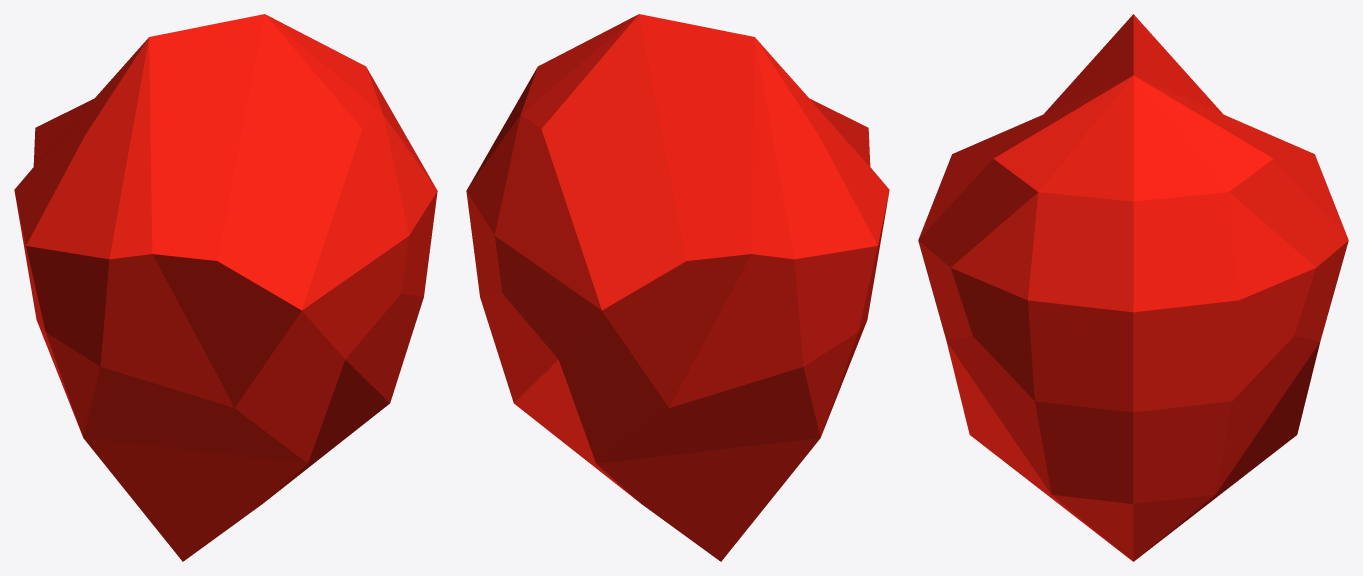
The model's file is RUBY.fbx.
The picture shows the model from 3 angles, left to right: view 1: azimuth 30°, elevation 25°; view 2: azimuth 150°, elevation 25°; view 3: azimuth 270°, elevation 25°; orthographic projection.
Parts seen in each view (by area): view 1: Sphere 球体; view 2: Sphere 球体; view 3: Sphere 球体.
Part boxes in pixels (left/top/right/bottom): Sphere 球体: left=14, top=14, right=437, bottom=561; Sphere 球体: left=466, top=14, right=889, bottom=561; Sphere 球体: left=918, top=14, right=1348, bottom=561.
Size of the model in its own units: 144 by 192 by 141.
